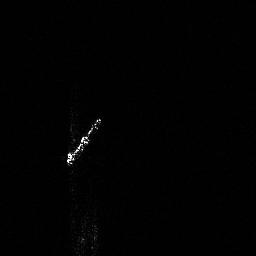ship: (62, 111, 107, 170)
